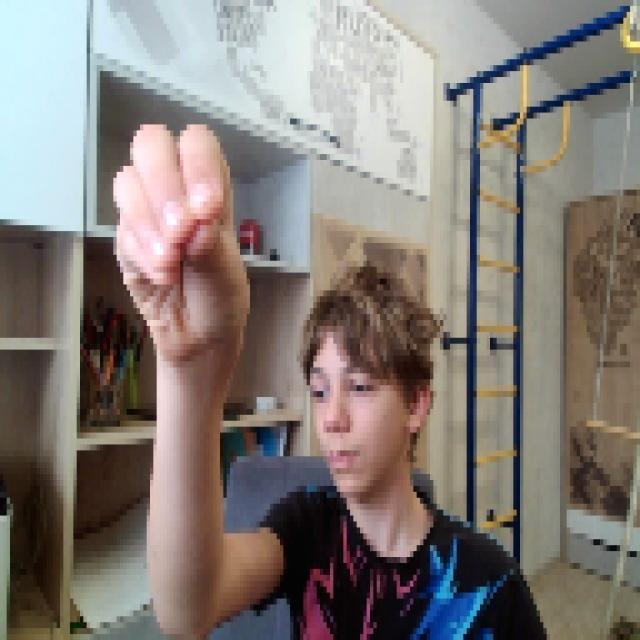left_click: (107, 113, 250, 350)
